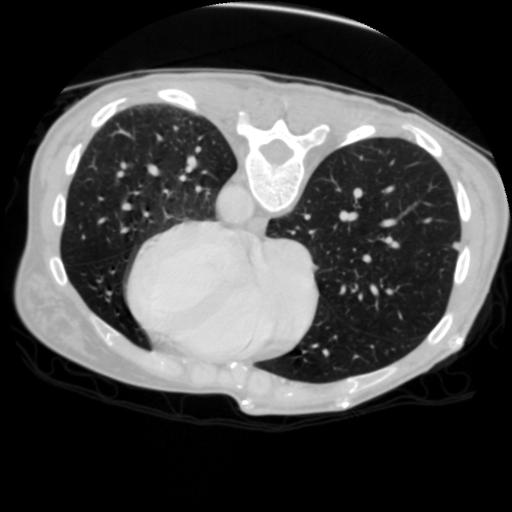nodule: (451, 240, 466, 255)
